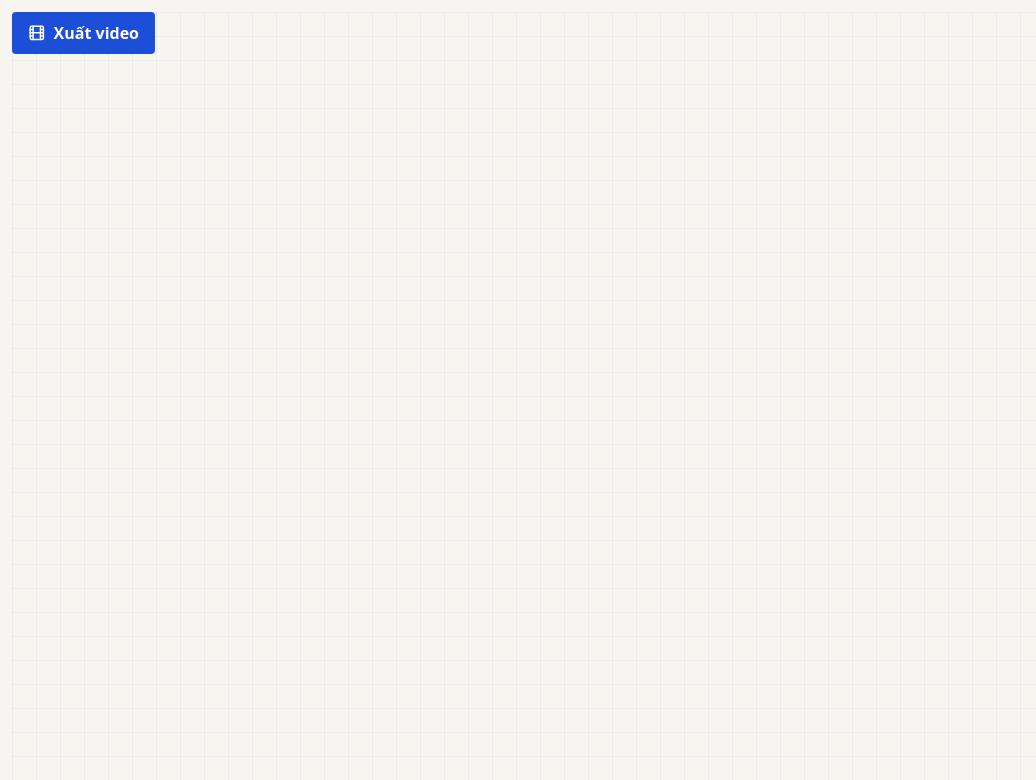
ExportControls › lỗi khi mã hóa: báo lỗi, nút bấm lại được
This screenshot has width=1036, height=780.
Click the button "Xuất video". click: (84, 33)
box: [12,12,155,54]
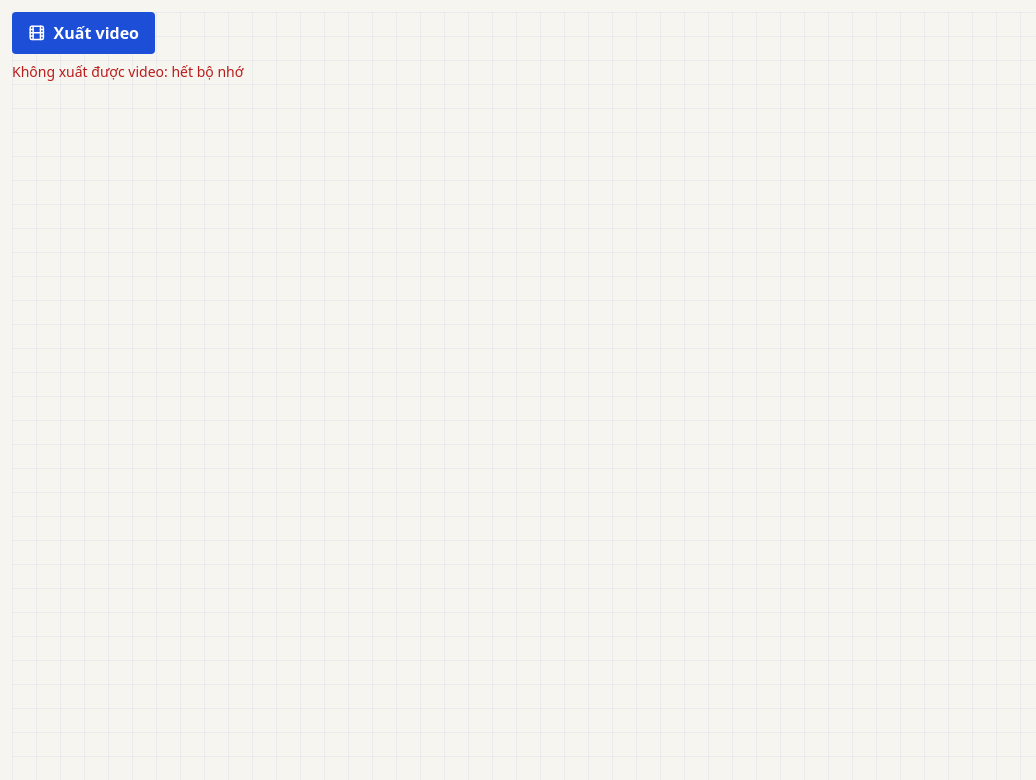
Now the text "Không xuất được video: hết bộ nhớ" is shown, box [12,62,243,81]
